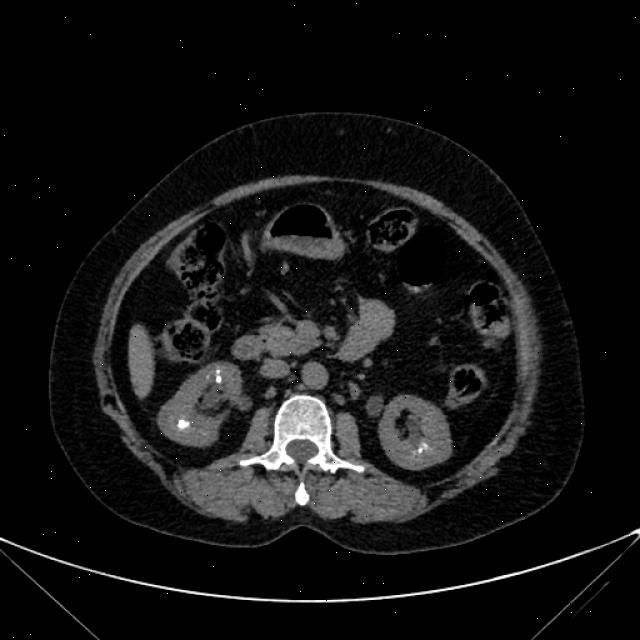kidneystone: (178, 419, 190, 429)
